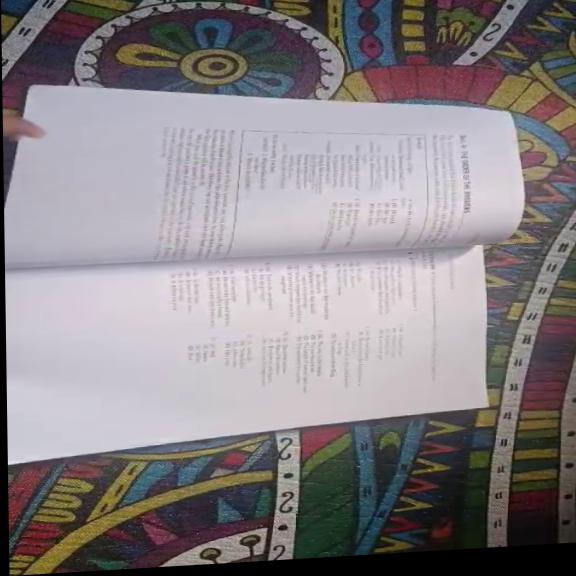Kertas: (3, 199, 483, 435), (31, 112, 483, 290)
